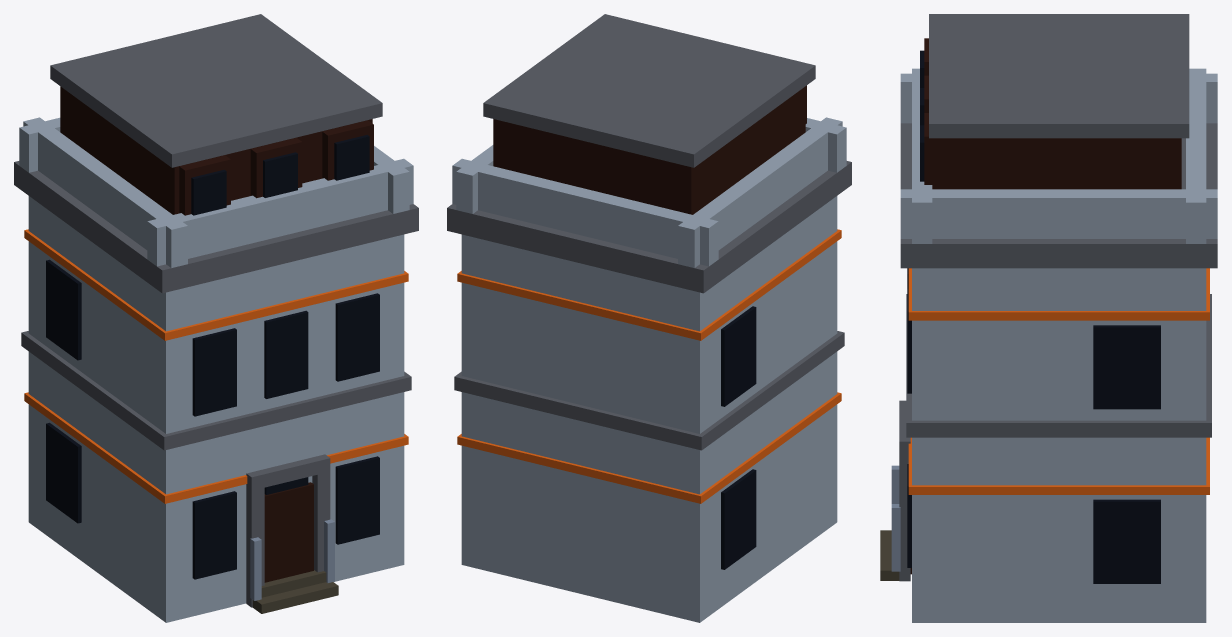
Rendered from walkup5.obj.
3 renders of one model, left to right at view 1: azimuth 30°, elevation 25°; view 2: azimuth 150°, elevation 25°; view 3: azimuth 270°, elevation 25°, orthographic. The views are drawn at different scales.
Visible parts, largest first — view 1: body, mansard-cap, windows, parapet, cornice, mansard-floor, window-lights, door, door-surround, dormers, dormer-glazing, steps (+1 smaller); view 2: body, mansard-cap, parapet, cornice, mansard-floor, window-lights, windows; view 3: body, mansard-cap, parapet, cornice, mansard-floor, windows, window-lights, door-surround, dormers, railings, steps, dormer-glazing.
Boxes of the visible parts, <box> form: body: <box>28,196,404,622</box>; mansard-cap: <box>50,14,382,167</box>; windows: <box>46,259,379,579</box>; parapet: <box>19,117,413,267</box>; cornice: <box>14,161,418,450</box>; mansard-floor: <box>60,86,372,214</box>; window-lights: <box>24,229,408,503</box>; door: <box>264,482,313,582</box>; door-surround: <box>246,454,330,607</box>; dormers: <box>179,120,373,215</box>; dormer-glazing: <box>191,134,369,215</box>; steps: <box>252,570,338,613</box>; body: <box>461,196,837,622</box>; mansard-cap: <box>483,14,815,167</box>; parapet: <box>452,117,846,267</box>; cornice: <box>447,161,851,450</box>; mansard-floor: <box>493,86,805,214</box>; window-lights: <box>457,229,841,503</box>; windows: <box>721,306,756,569</box>; body: <box>912,268,1206,622</box>; mansard-cap: <box>929,14,1189,138</box>; parapet: <box>900,68,1217,243</box>; cornice: <box>900,123,1217,437</box>; mansard-floor: <box>937,138,1181,189</box>; windows: <box>907,268,1160,583</box>; window-lights: <box>908,268,1209,494</box>; door-surround: <box>899,400,910,581</box>; dormers: <box>924,38,936,189</box>; railings: <box>891,465,900,571</box>; steps: <box>880,530,899,580</box>; dormer-glazing: <box>920,50,924,181</box>.
Bounding box in the file's own units: 2.8 × 4.79 × 2.98.
